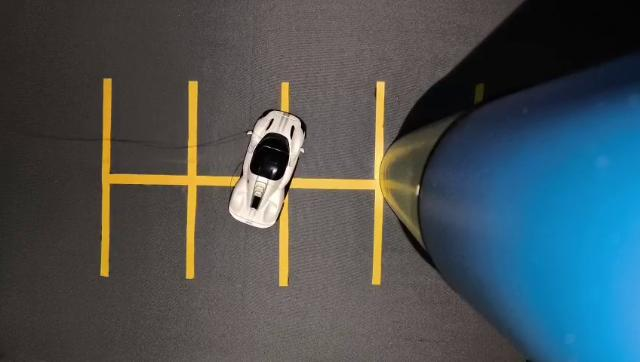toy_car: (220, 96, 314, 243)
